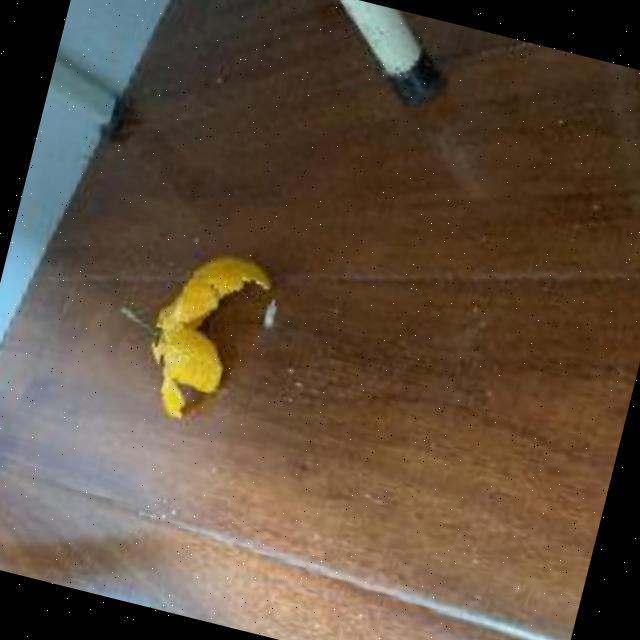orange-peel: (126, 233, 286, 437)
